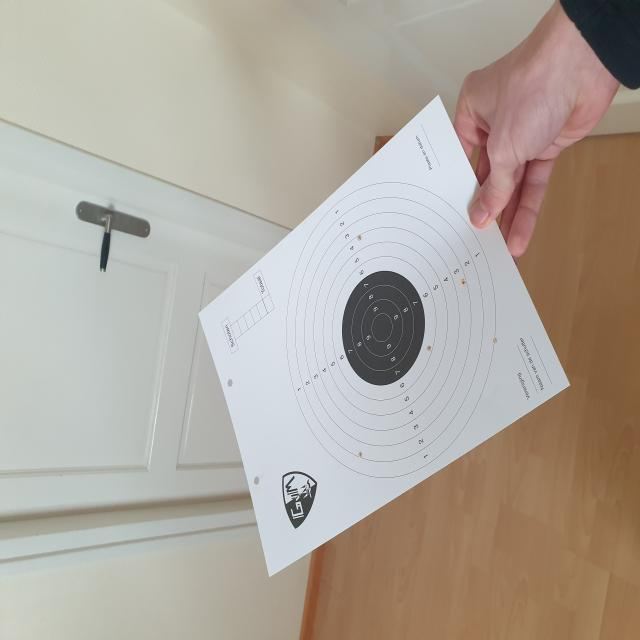1: (492, 336, 498, 344)
2: (358, 451, 363, 458)
3: (460, 276, 468, 288)
4: (356, 234, 362, 242)
6: (426, 346, 432, 352)
Target: (285, 182, 498, 478)
black_contour: (342, 270, 425, 386)
